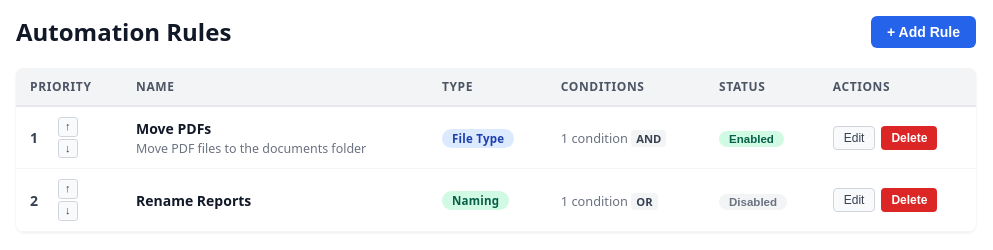
Test: AutomationRulesManager › deleting rules › removes a rule from the list
The image size is (993, 250).
Click the button with test id "delete-rule-rule-1" at (909, 138), box [881,126,937,150]
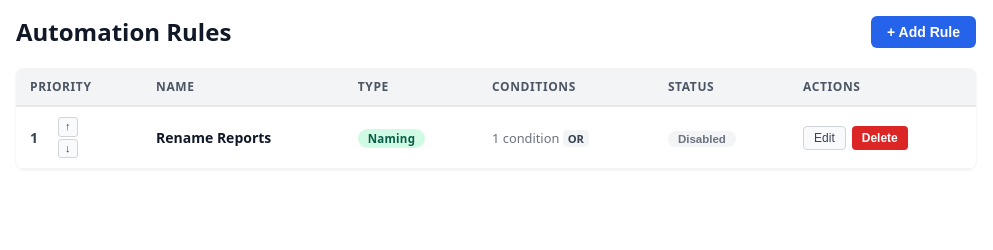
Expected: the text "Move PDFs" is gone
